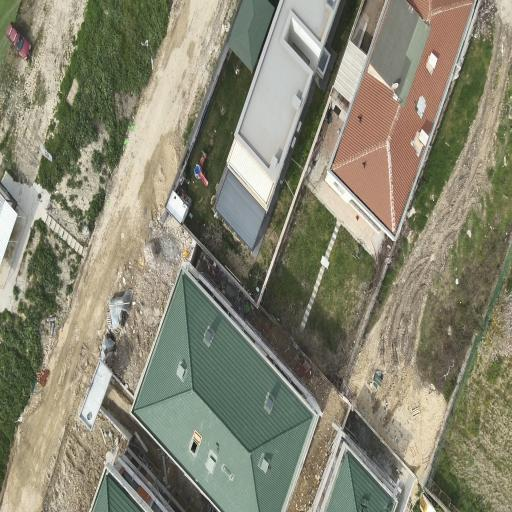car: (7, 23, 31, 60)
